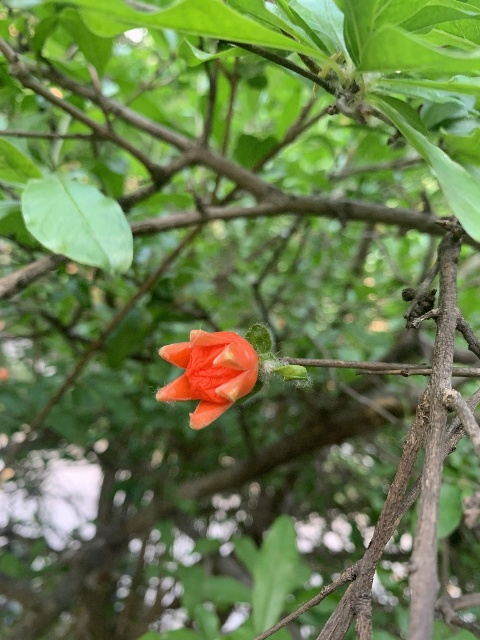flower: (155, 328, 258, 429)
